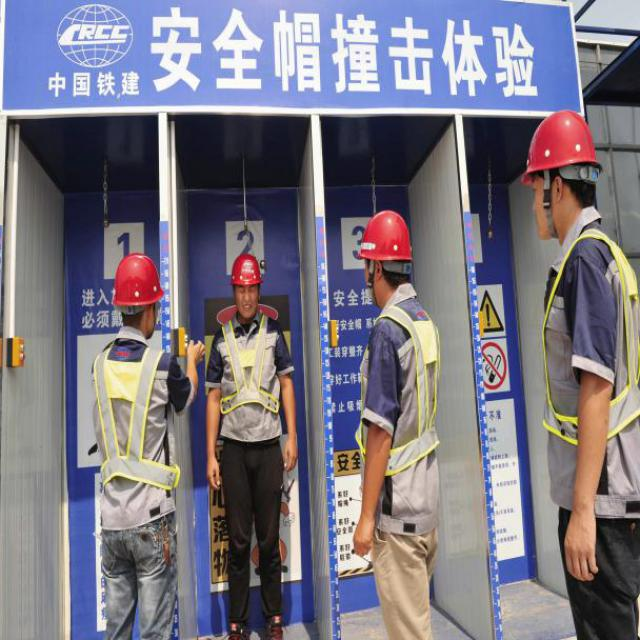helmet: (512, 88, 600, 241), (98, 237, 178, 348), (353, 200, 410, 320), (231, 242, 265, 318)
vest: (528, 234, 639, 439), (358, 297, 454, 499), (81, 352, 178, 504), (214, 317, 286, 432)
